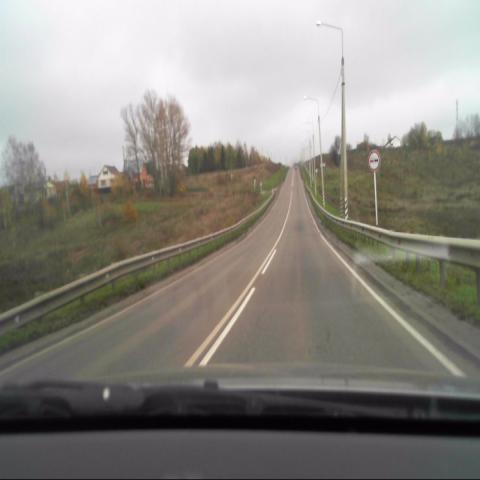3_20: (367, 149, 380, 171)
